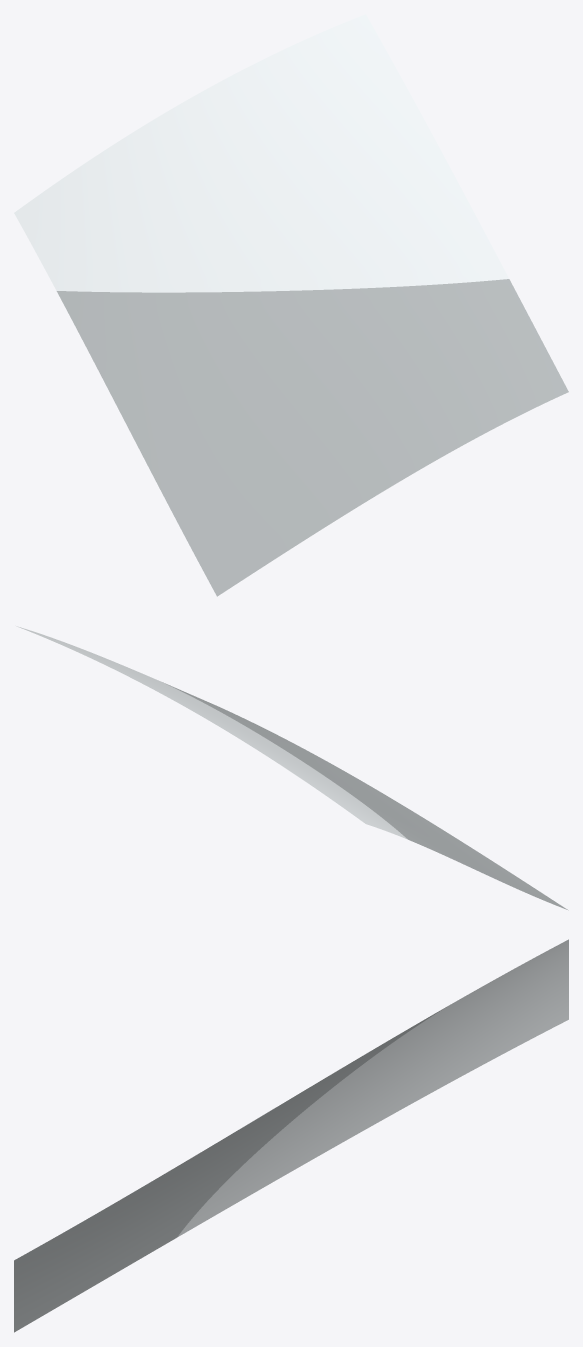
Rendered from alpine-7-8.glb.
3 views of the same model, one above another, from view 1: azimuth 30°, elevation 25°; view 2: azimuth 150°, elevation 25°; view 3: azimuth 270°, elevation 25° (orthographic). The views are drawn at different scales.
Visible parts, largest first — view 1: alpine-7-8; view 2: alpine-7-8; view 3: alpine-7-8.
Part boxes in pixels (x1=…): alpine-7-8: x1=14, y1=14, x2=568, y2=596; alpine-7-8: x1=16, y1=626, x2=568, y2=910; alpine-7-8: x1=14, y1=939, x2=568, y2=1332.
Bounding box in the file's own units: 256 × 242 × 256.
Materials: 2 (2 with a texture image).
